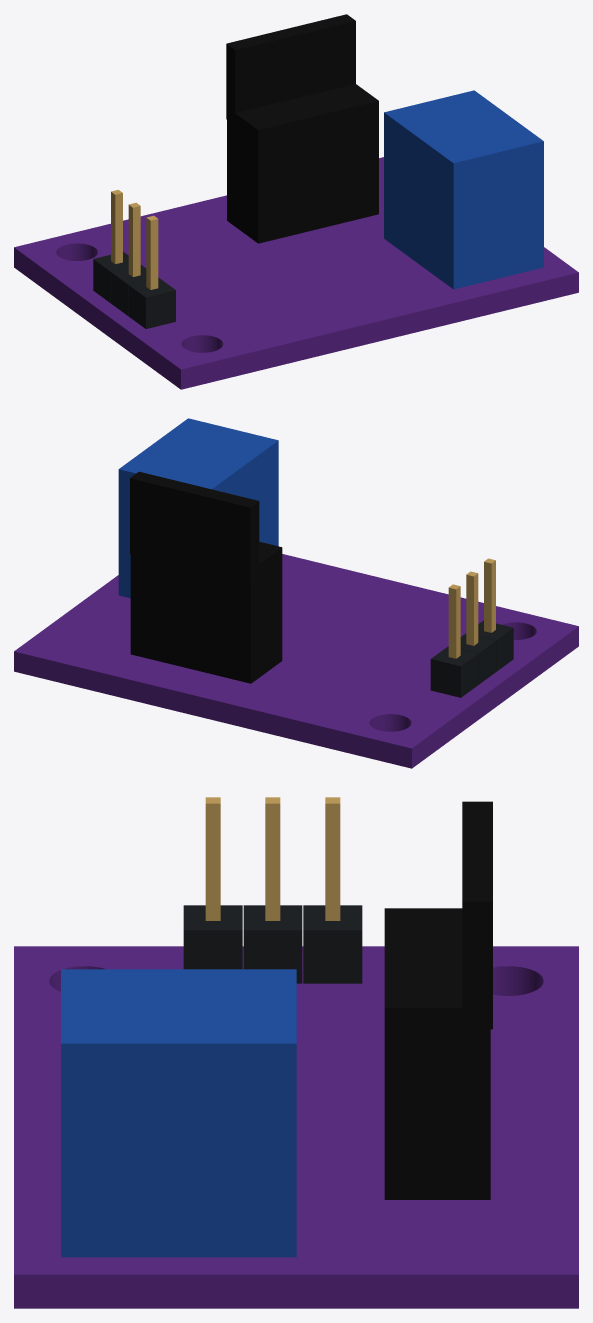
Rendered from irf520.glb.
3 renders of one model, top to bottom at view 1: azimuth 30°, elevation 25°; view 2: azimuth 150°, elevation 25°; view 3: azimuth 270°, elevation 25°, orthographic. The views are drawn at different scales.
Visible parts, largest first — view 1: irf520; view 2: irf520; view 3: irf520.
Boxes of the visible parts, <box> form: irf520: <box>14,14,578,389</box>; irf520: <box>14,418,578,768</box>; irf520: <box>14,797,578,1308</box>.
Size of the model in its own units: 33 by 15.6 by 24.
